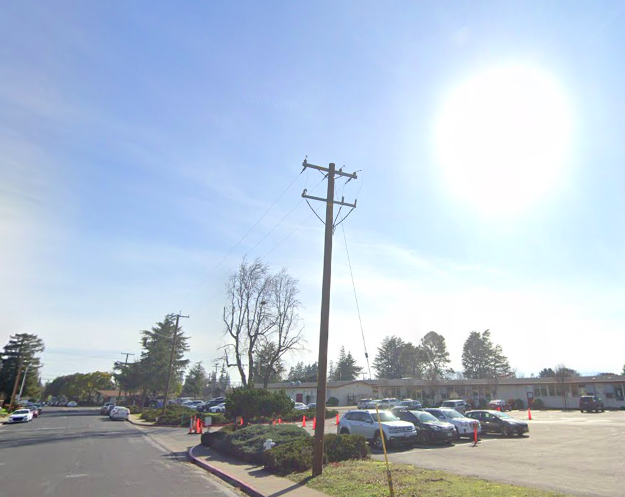utility_pole: (293, 147, 362, 226)
